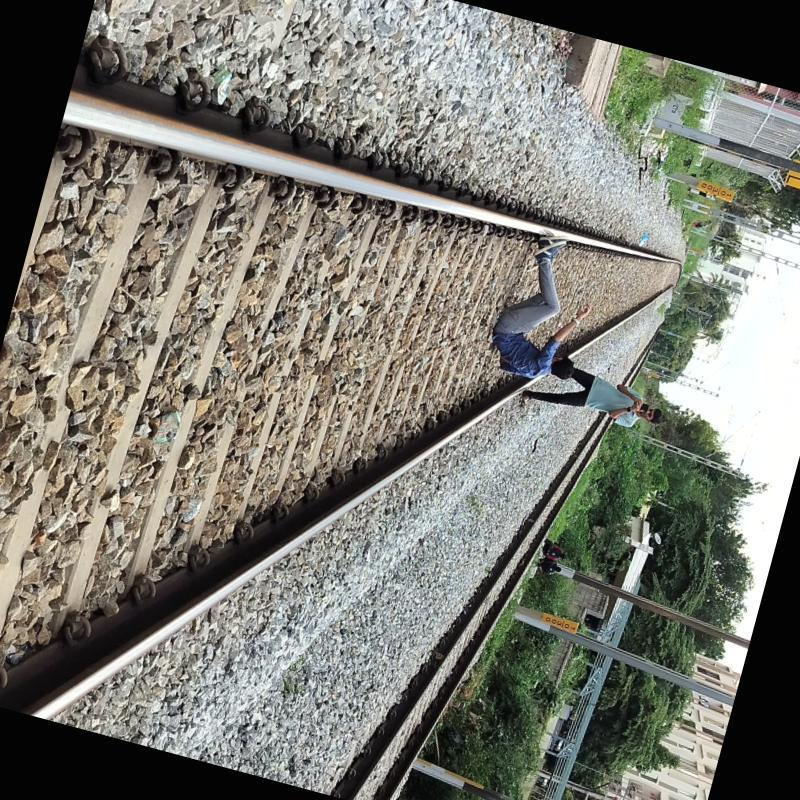sleeping: (471, 226, 601, 401)
